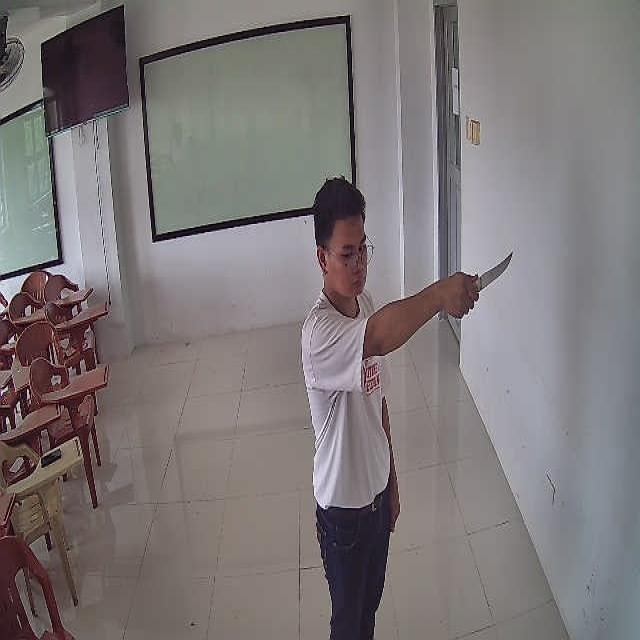knife: (478, 250, 514, 290)
